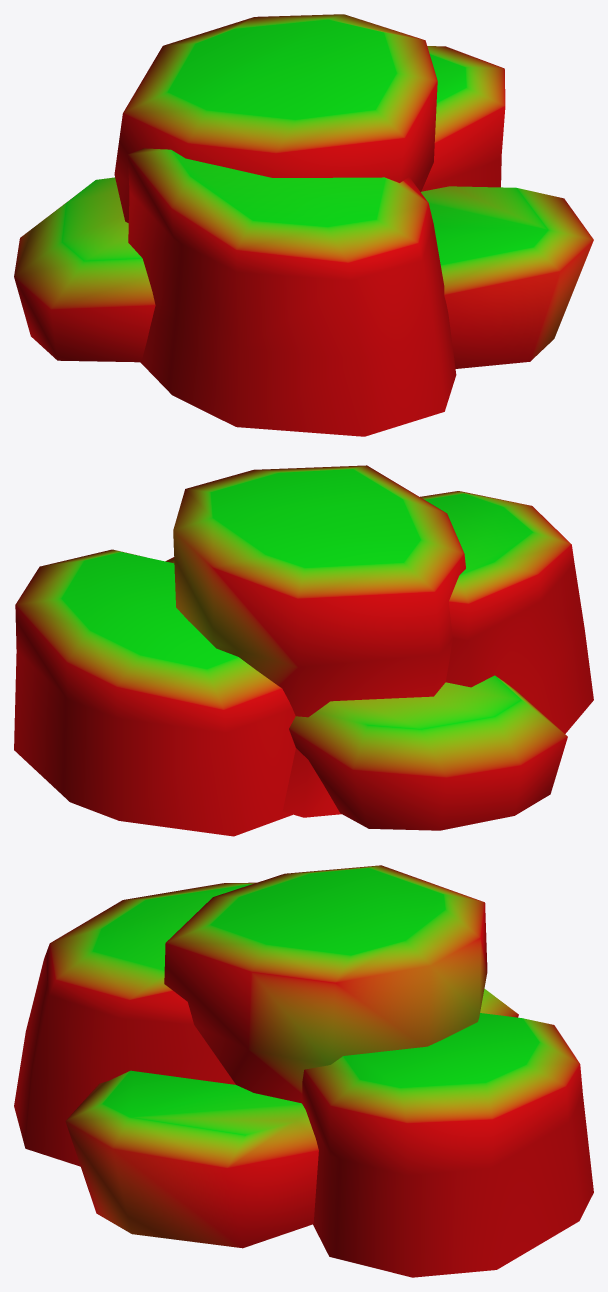
File: Sunken Tomb Boulders Wide.fbx
3 views of the same model, one above another, from view 1: azimuth 30°, elevation 25°; view 2: azimuth 150°, elevation 25°; view 3: azimuth 270°, elevation 25° (orthographic). The views are drawn at different scales.
Parts seen in each view (by area): view 1: Layered Boulders Wide; view 2: Layered Boulders Wide; view 3: Layered Boulders Wide.
Part boxes in pixels (x1,y1,x2,y2): Layered Boulders Wide: (14, 14, 593, 436); Layered Boulders Wide: (14, 465, 593, 836); Layered Boulders Wide: (14, 865, 593, 1277).
Size of the model in its own units: 1315 by 618 by 1299.
